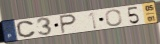1: (89, 12, 99, 29)
3: (36, 17, 53, 37)
5: (126, 6, 141, 24)
C: (15, 20, 37, 38)
O: (105, 8, 124, 27)
P: (59, 14, 78, 35)
